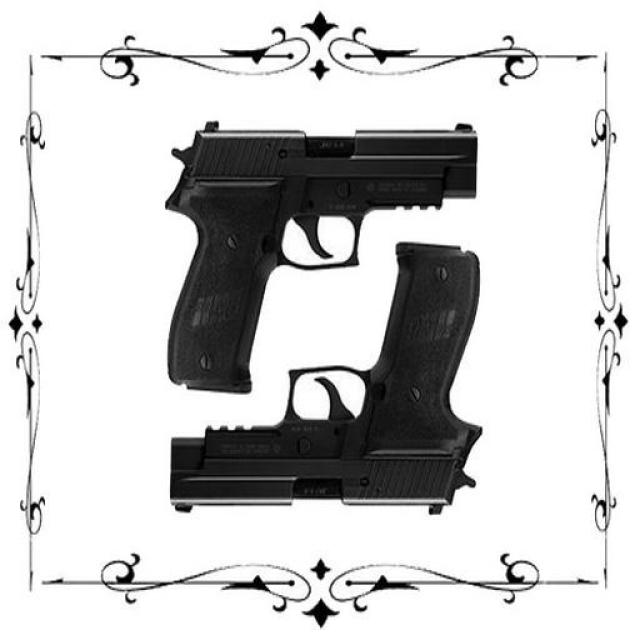pistol: (170, 240, 480, 514), (166, 120, 477, 390)
